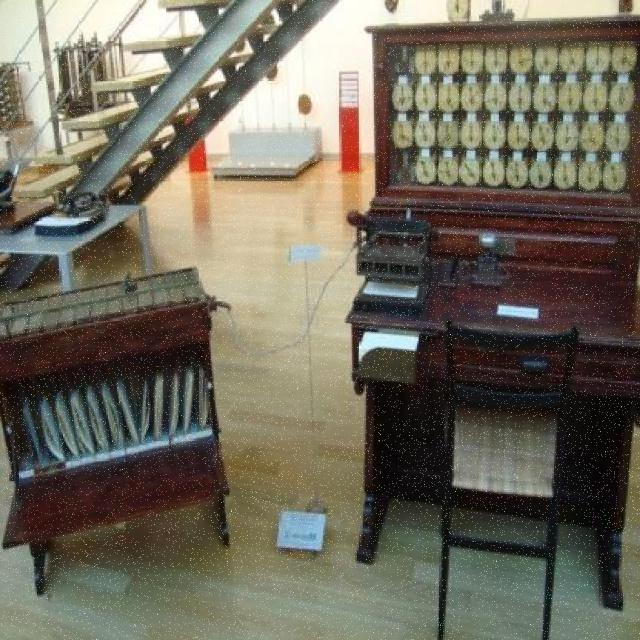stair: (1, 0, 342, 292)
